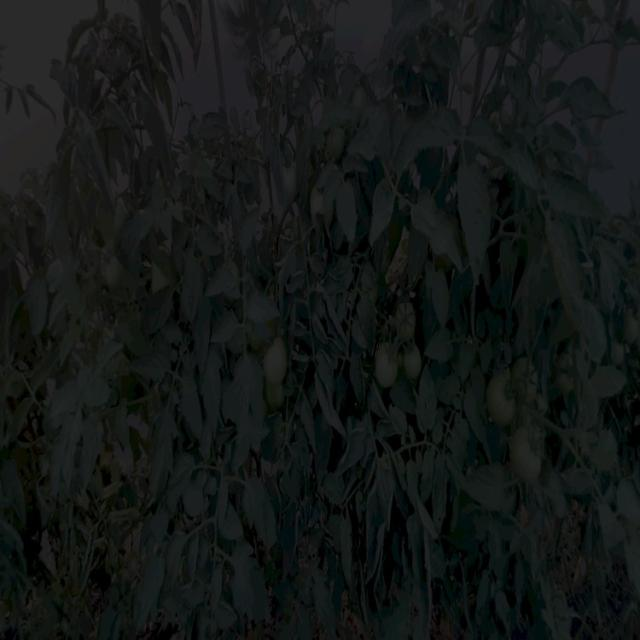tomato: (515, 425, 552, 488), (515, 354, 546, 408), (372, 344, 406, 393), (489, 369, 520, 421), (390, 296, 421, 342), (307, 179, 332, 224), (261, 340, 289, 380), (261, 376, 291, 412), (404, 341, 431, 380), (280, 162, 305, 201), (102, 255, 131, 288), (598, 338, 623, 371), (325, 128, 351, 159), (622, 311, 640, 347), (555, 367, 574, 393)
